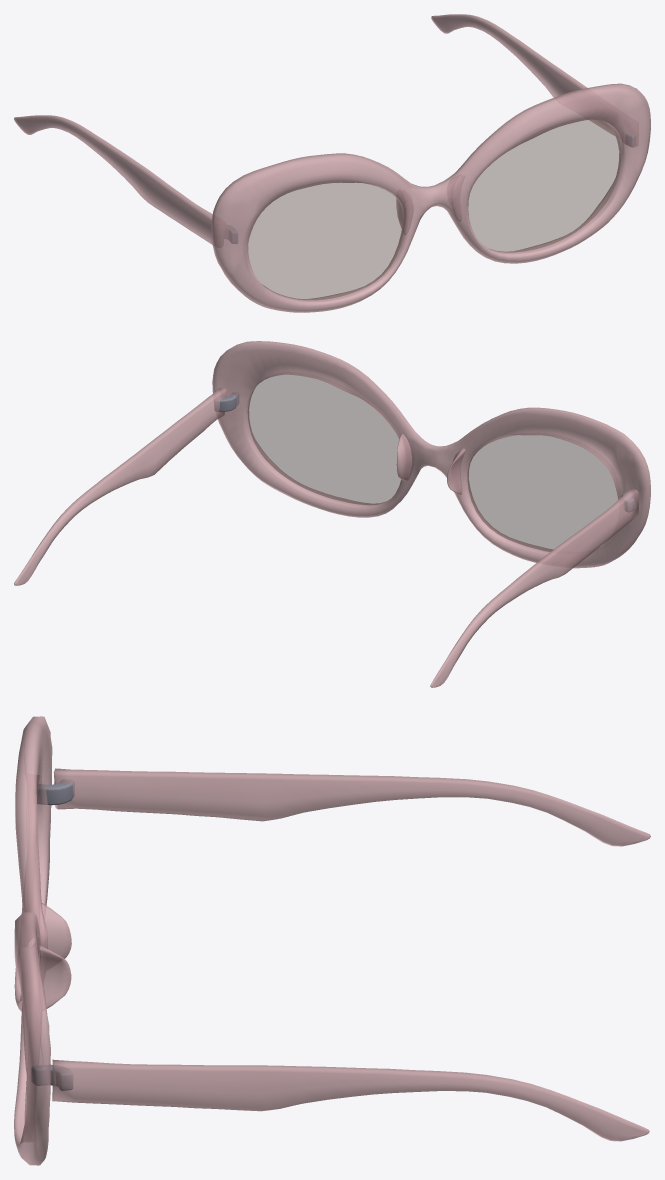
Rendered from jelly.glb.
The picture shows the model from 3 angles, top to bottom: view 1: azimuth 30°, elevation 25°; view 2: azimuth 150°, elevation 25°; view 3: azimuth 270°, elevation 25°; orthographic projection. The views are drawn at different scales.
Parts seen in each view (by area): view 1: model_8.002; view 2: model_8.002; view 3: model_8.002.
Part boxes in pixels (left/top/right/bottom): model_8.002: left=14, top=14, right=650, bottom=312; model_8.002: left=14, top=341, right=650, bottom=687; model_8.002: left=14, top=716, right=650, bottom=1165.
Size of the model in its own units: 2.21 by 0.7584 by 1.92.
